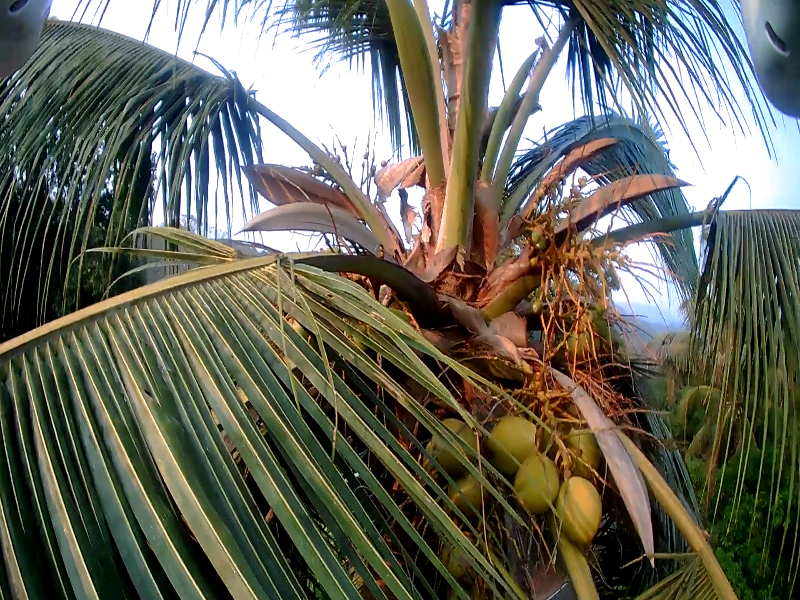coconut: (431, 464, 481, 520), (487, 409, 536, 462), (513, 453, 554, 507), (555, 416, 596, 467), (428, 413, 475, 455), (561, 314, 598, 367), (549, 476, 588, 526)
